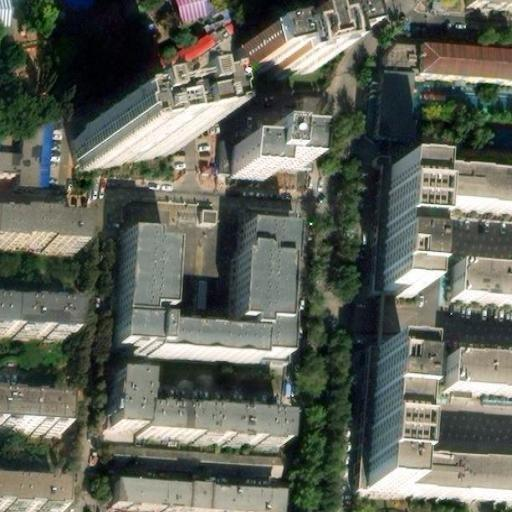building: (133, 217, 305, 350), (114, 372, 295, 444), (386, 156, 454, 294), (373, 343, 419, 486), (234, 20, 344, 74), (113, 479, 282, 512), (116, 449, 274, 482), (77, 118, 173, 169), (410, 454, 512, 498), (0, 109, 55, 179), (232, 134, 307, 181), (359, 343, 383, 484), (0, 203, 84, 243), (420, 45, 512, 78), (0, 292, 77, 331), (380, 67, 419, 140), (0, 389, 68, 423), (452, 160, 512, 195), (452, 268, 512, 303), (460, 358, 512, 398), (171, 27, 217, 65), (385, 43, 422, 70), (174, 0, 213, 24)
